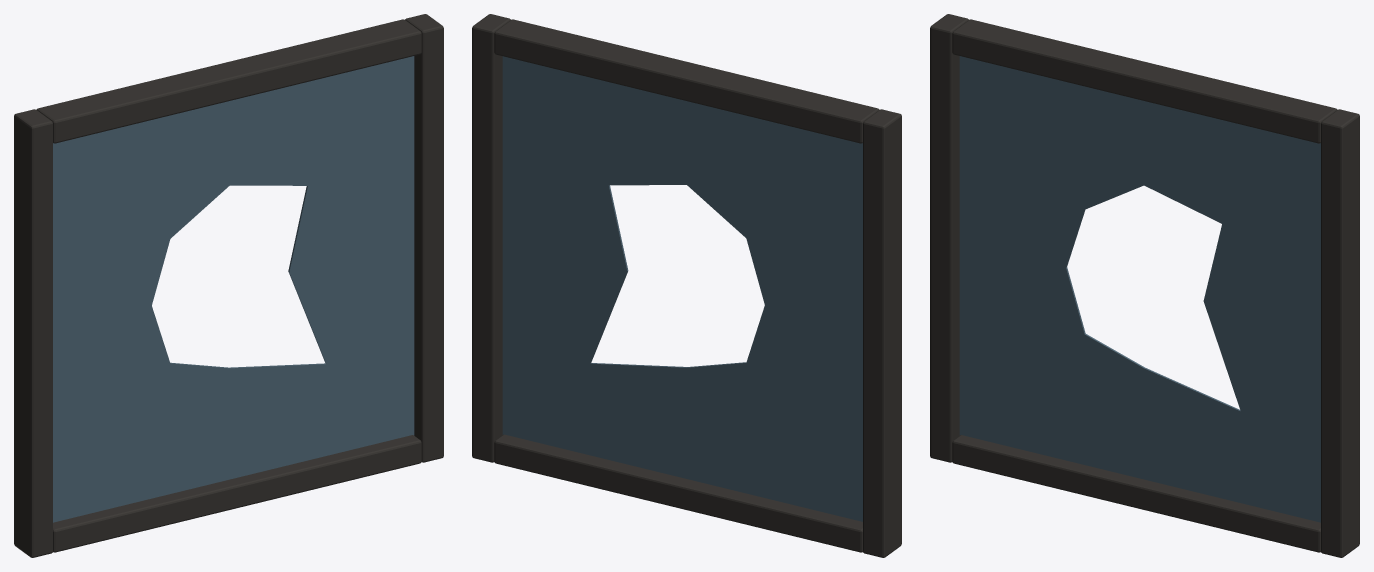
File: MS_AT_12_BrokenGlass.glb
3 renders of one model, left to right at view 1: azimuth 30°, elevation 25°; view 2: azimuth 150°, elevation 25°; view 3: azimuth 330°, elevation 25°, orthographic.
Parts seen in each view (by area): view 1: WindowFrame.012, FracturedPane.003, FracturedPane, FracturedPane.002, WindowFrame.015, FracturedPane.007, FracturedPane.006, FracturedPane.001, FracturedPane.005, WindowFrame.013, FracturedPane.004, WindowFrame.014; view 2: WindowFrame.012, FracturedPane.003, FracturedPane, FracturedPane.002, WindowFrame.015, FracturedPane.001, FracturedPane.007, FracturedPane.006, FracturedPane.005, WindowFrame.013, FracturedPane.004, WindowFrame.014; view 3: WindowFrame.013, FracturedPane.007, FracturedPane.006, FracturedPane, WindowFrame.015, FracturedPane.001, FracturedPane.003, FracturedPane.005, FracturedPane.002, WindowFrame.012, FracturedPane.004, WindowFrame.014.
Part boxes in pixels (x1,y1,x2,y2): WindowFrame.012: [14, 109, 52, 557]; FracturedPane.003: [288, 56, 414, 271]; FracturedPane: [53, 362, 229, 522]; FracturedPane.002: [288, 242, 414, 434]; WindowFrame.015: [36, 19, 421, 143]; FracturedPane.007: [53, 305, 170, 514]; FracturedPane.006: [53, 145, 170, 329]; FracturedPane.001: [229, 363, 414, 479]; FracturedPane.005: [53, 101, 229, 238]; WindowFrame.013: [405, 14, 443, 462]; FracturedPane.004: [230, 58, 406, 185]; WindowFrame.014: [53, 435, 421, 552]; WindowFrame.012: [863, 109, 901, 557]; FracturedPane.003: [502, 56, 628, 271]; FracturedPane: [686, 362, 862, 521]; FracturedPane.002: [502, 241, 627, 433]; WindowFrame.015: [494, 19, 879, 143]; FracturedPane.001: [502, 363, 687, 478]; FracturedPane.007: [746, 305, 862, 512]; FracturedPane.006: [746, 145, 862, 328]; FracturedPane.005: [686, 101, 862, 238]; WindowFrame.013: [472, 14, 510, 462]; FracturedPane.004: [510, 58, 686, 185]; WindowFrame.014: [494, 434, 862, 552]; WindowFrame.013: [1321, 109, 1359, 557]; FracturedPane.007: [959, 242, 1085, 434]; FracturedPane.006: [959, 56, 1085, 267]; FracturedPane: [959, 333, 1144, 479]; WindowFrame.015: [952, 19, 1337, 143]; FracturedPane.001: [1144, 367, 1320, 522]; FracturedPane.003: [1203, 145, 1320, 329]; FracturedPane.005: [967, 58, 1143, 209]; FracturedPane.002: [1203, 301, 1320, 514]; WindowFrame.012: [930, 14, 968, 462]; FracturedPane.004: [1144, 101, 1320, 223]; WindowFrame.014: [952, 435, 1320, 552].
Bounding box in the file's own units: 1.3 × 1.3 × 0.1.
